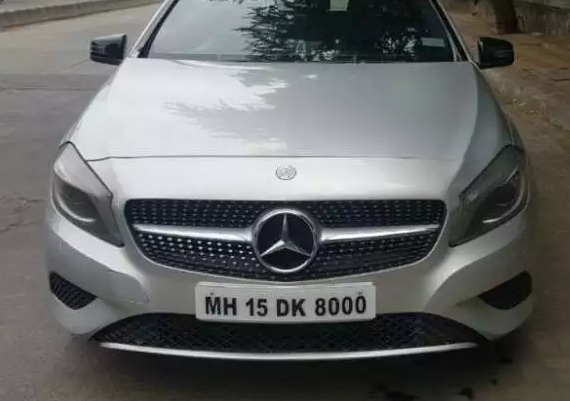licenseplate: (196, 280, 380, 327)
